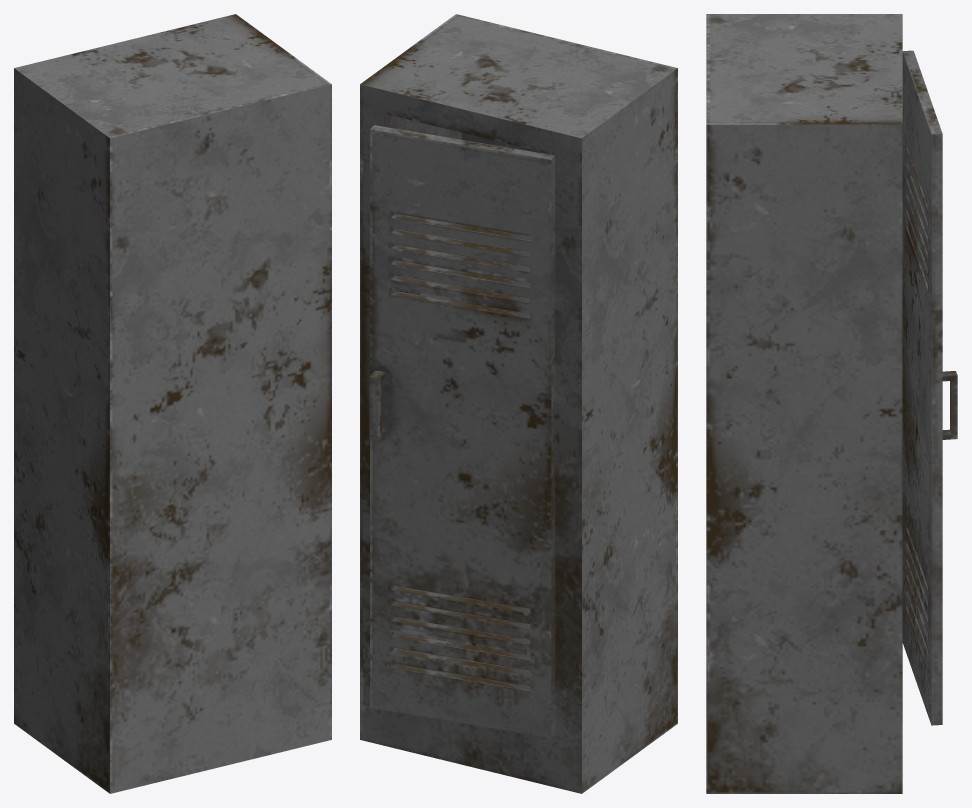
Rendered from Singular Locker.fbx.
The picture shows the model from 3 angles, left to right: view 1: azimuth 30°, elevation 25°; view 2: azimuth 150°, elevation 25°; view 3: azimuth 270°, elevation 25°; orthographic projection. The views are drawn at different scales.
Parts seen in each view (by area): view 1: Cube.008; view 2: Cube.008, Cube.007; view 3: Cube.008, Cube.007.
Boxes of the visible parts, <box> form: Cube.008: <box>14,14,331,793</box>; Cube.008: <box>360,14,677,793</box>; Cube.007: <box>369,125,555,738</box>; Cube.008: <box>706,14,902,793</box>; Cube.007: <box>902,50,957,725</box>.
Bounding box in the file's own units: 72.17 × 204 × 69.34.
